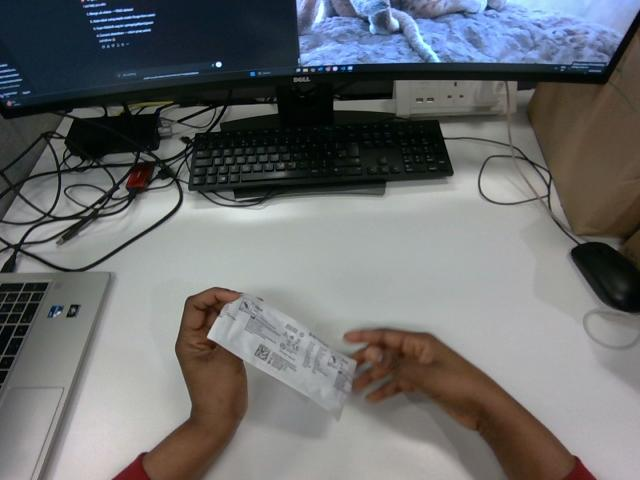syringe: (208, 294, 355, 416)
